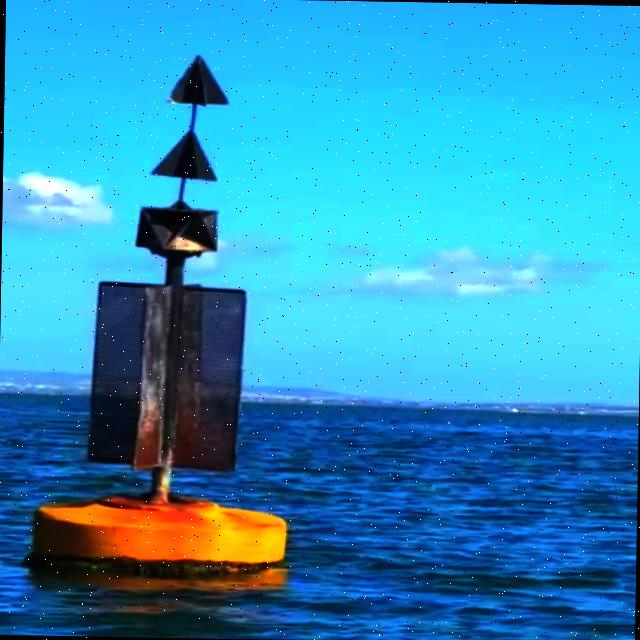marque: (28, 52, 312, 584)
